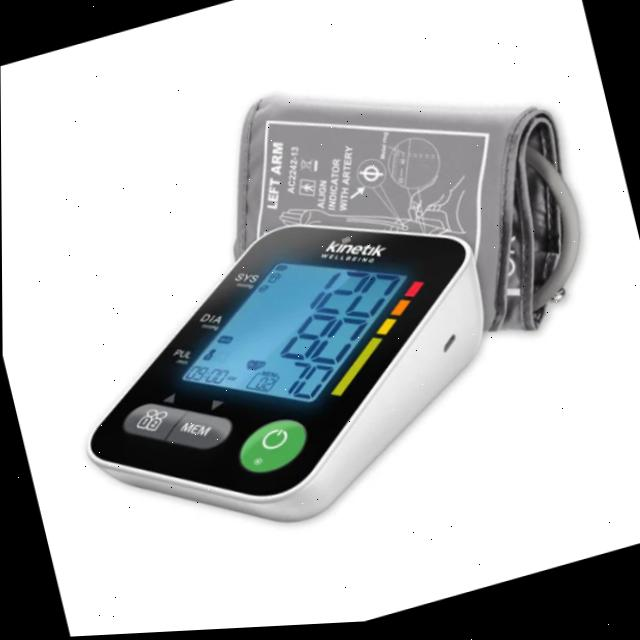dia: (269, 310, 368, 373)
pul: (262, 357, 333, 411)
ssd: (180, 204, 410, 454)
sys: (296, 267, 406, 327)
